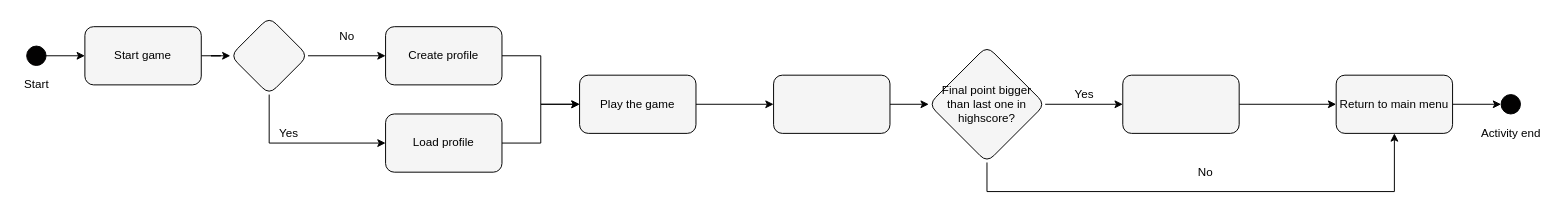
Image size: 1561x216. Some labels were removed from this diagram. Each missing label, with the centre of its shape:
Creates new highscore profile: (1180,103)
Game end (Die): (831,103)
Have profile?: (268,55)
